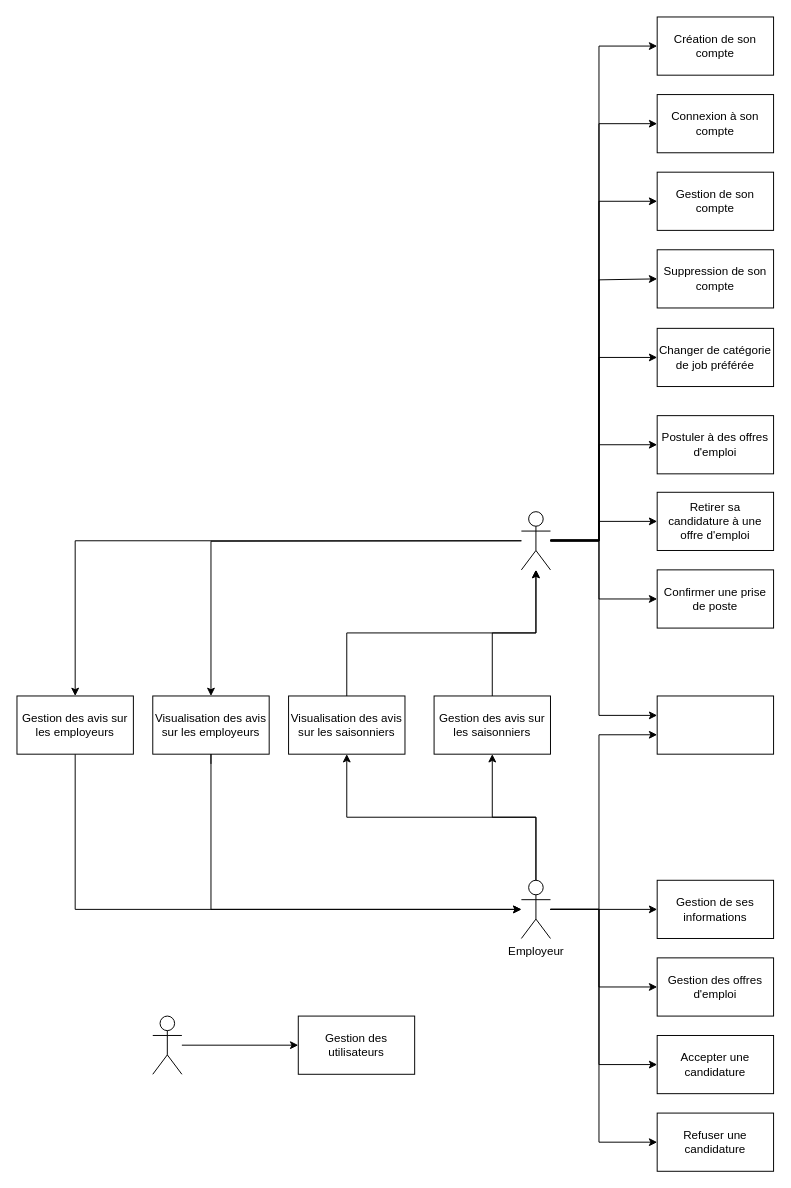
This 791x1188 diagram has some shape labels left out. The box of each missing label's shape, as (x1, y1, x2, y2) in pixels:
Admin: (152, 1015, 182, 1074)
Communication par chat intégré: (656, 695, 774, 754)
Saisonnier: (520, 511, 550, 570)
